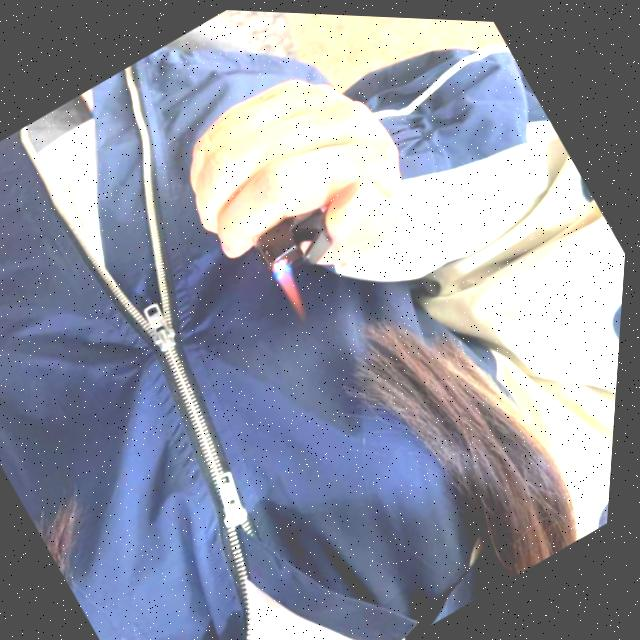Fire: (272, 254, 322, 317)
